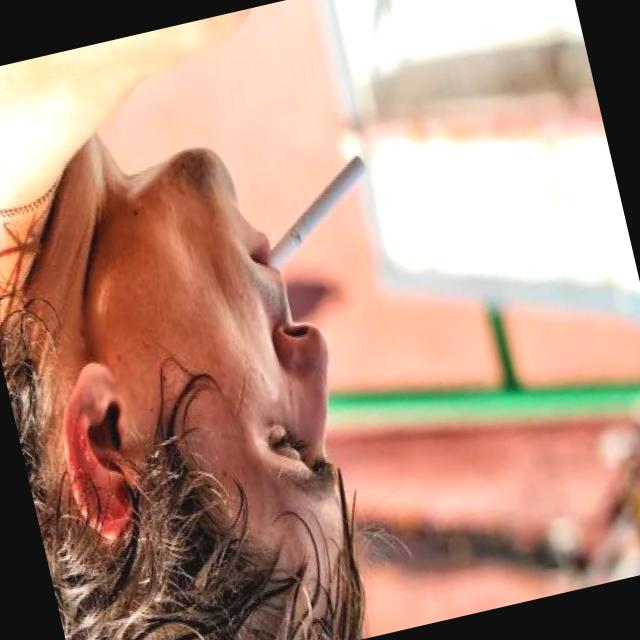cigarette: (248, 150, 387, 276)
